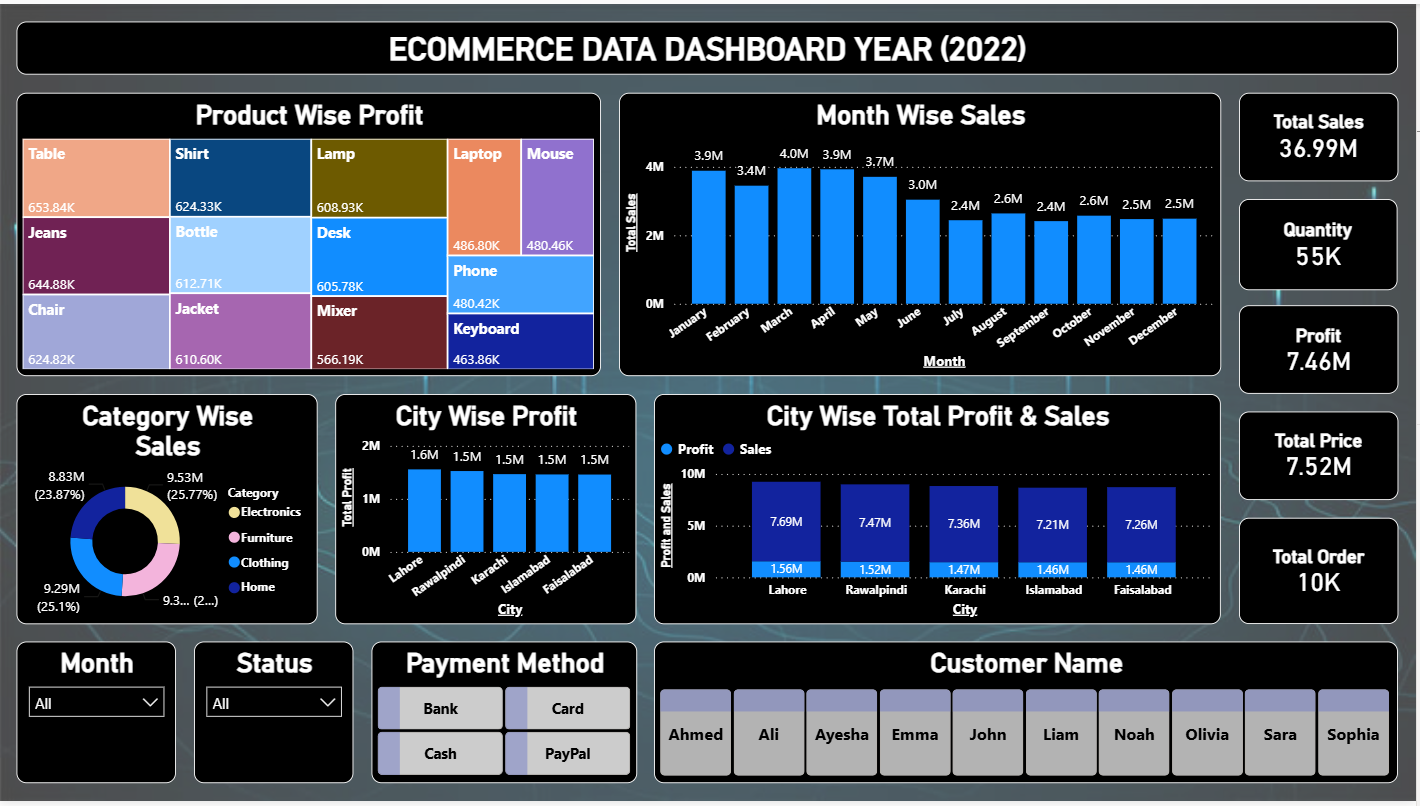

Layout of this report page (visuals, bound fields, positions):
{"tool":"powerbi","page":{"name":" Ecommerce dashboard","canvas":[1280,720],"ordinal":0},"visuals":[{"type":"textbox","title":" E-commerce Sales Dashboard (2022)","box":[16,16,1248,48],"z":0},{"type":"cardVisual","fields":{"Data":["EcommerceData.Total Sales"]},"box":[1120,80,144,80],"z":1000},{"type":"cardVisual","fields":{"Data":["Sum(EcommerceData.Quantity)"]},"box":[1120,176,143,82],"z":2000},{"type":"cardVisual","fields":{"Data":["Sum(EcommerceData.Profit)"]},"box":[1120,272,144,80],"z":3000},{"type":"cardVisual","fields":{"Data":["Sum(EcommerceData.UnitPrice)"]},"box":[1120,368,144,80],"z":4000},{"type":"columnChart","title":" Month Wise Sales","fields":{"Y":["EcommerceData.Total Sales"],"Category":["EcommerceData.MONTH.Variation.Date Hierarchy.Month"]},"box":[560,80,544,256],"z":5000},{"type":"treemap","title":" Product Wise  Profit","fields":{"Group":["EcommerceData.Product"],"Values":["Sum(EcommerceData.Profit)"]},"box":[16,80,528,256],"z":6000},{"type":"donutChart","title":" Category Wise Sales","fields":{"Category":["EcommerceData.Category"],"Y":["EcommerceData.Total Sales"]},"box":[16,352,272,208],"z":7000},{"type":"clusteredColumnChart","title":" City Wise Profit","fields":{"Category":["EcommerceData.City"],"Y":["Sum(EcommerceData.Profit)"]},"box":[304,352,272,208],"z":8000},{"type":"cardVisual","title":" Month Wise Profit","fields":{"Data":["CountNonNull(EcommerceData.OrderID)"]},"box":[1120,464,144,96],"z":9000},{"type":"slicer","title":"Month","fields":{"Values":["EcommerceData.MONTH.Variation.Date Hierarchy.Month"]},"box":[16,576,144,128],"z":10000},{"type":"columnChart","title":" City Wise Total Profit & Sales ","fields":{"Category":["EcommerceData.City"],"Y":["Sum(EcommerceData.Profit)","EcommerceData.Total Sales"]},"box":[592,352,512,208],"z":11000},{"type":"slicer","title":"Status","fields":{"Values":["EcommerceData.Status"]},"box":[176,576,144,128],"z":12000},{"type":"advancedSlicerVisual","title":"Payment Method","fields":{"Values":["EcommerceData.PaymentMethod"]},"box":[336,576,240,128],"z":13000},{"type":"advancedSlicerVisual","fields":{"Values":["EcommerceData.CustomerName"]},"box":[592,576,672,128],"z":14000}]}

Visuals, with their boxes in screenshot pixels (x1, y1, x2, y2), scaled from the page's 1280x720 canvas onto the 1420x806 screenshot:
" E-commerce Sales Dashboard (2022)" textbox: box(18, 18, 1402, 72)
cardVisual - EcommerceData.Total Sales: box(1242, 90, 1402, 179)
cardVisual - Sum(EcommerceData.Quantity): box(1242, 197, 1401, 289)
cardVisual - Sum(EcommerceData.Profit): box(1242, 304, 1402, 394)
cardVisual - Sum(EcommerceData.UnitPrice): box(1242, 412, 1402, 502)
" Month Wise Sales" columnChart: box(621, 90, 1225, 376)
" Product Wise  Profit" treemap: box(18, 90, 604, 376)
" Category Wise Sales" donutChart: box(18, 394, 320, 627)
" City Wise Profit" clusteredColumnChart: box(337, 394, 639, 627)
" Month Wise Profit" cardVisual: box(1242, 519, 1402, 627)
"Month" slicer: box(18, 645, 178, 788)
" City Wise Total Profit & Sales " columnChart: box(657, 394, 1225, 627)
"Status" slicer: box(195, 645, 355, 788)
"Payment Method" advancedSlicerVisual: box(373, 645, 639, 788)
advancedSlicerVisual - EcommerceData.CustomerName: box(657, 645, 1402, 788)
